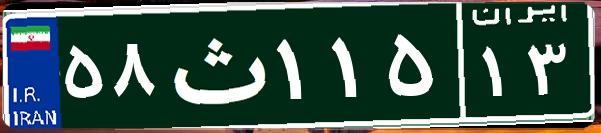1: (273, 28, 330, 110), (330, 28, 385, 110), (475, 38, 525, 113)
3: (525, 38, 570, 115)
5: (385, 28, 445, 110), (57, 26, 110, 107)
8: (110, 28, 158, 105)
ث: (158, 15, 273, 115)
